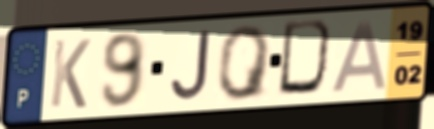9: (97, 29, 151, 111)
A: (328, 18, 390, 95)
D: (275, 17, 340, 100)
J: (168, 28, 213, 104)
K: (47, 37, 93, 111)
Q: (216, 22, 275, 104)
